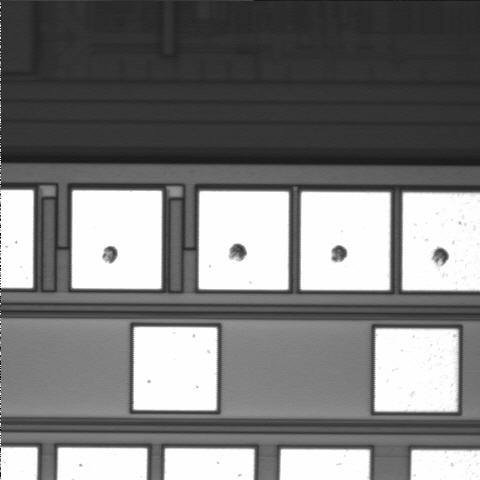pad: (72, 190, 162, 289), (199, 191, 289, 290), (301, 192, 390, 290), (133, 327, 217, 410), (375, 329, 458, 412)
